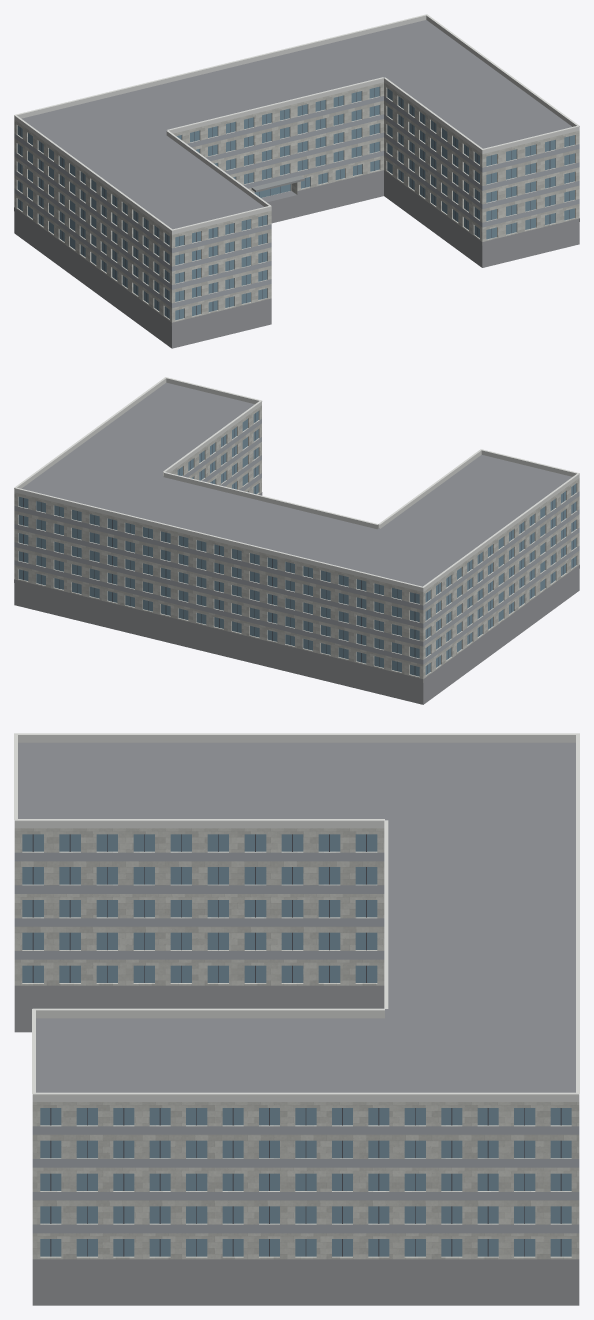
The picture shows the model from 3 angles, top to bottom: view 1: azimuth 30°, elevation 25°; view 2: azimuth 150°, elevation 25°; view 3: azimuth 270°, elevation 25°; orthographic projection. The views are drawn at different scales.
Parts seen in each view (by area): view 1: dorm3__roof, dorm3__wall, dorm3__glass, dorm3__base, dorm3__wall2, dorm3__parapet, dorm3__trim, dorm3__frame; view 2: dorm3__roof, dorm3__wall, dorm3__glass, dorm3__base, dorm3__wall2, dorm3__parapet, dorm3__trim, dorm3__frame; view 3: dorm3__roof, dorm3__wall, dorm3__glass, dorm3__base, dorm3__wall2, dorm3__parapet, dorm3__trim, dorm3__frame.
Boxes of the visible parts, bbox=[...] form: dorm3__roof: bbox=[22, 20, 571, 229]; dorm3__wall: bbox=[14, 82, 579, 325]; dorm3__glass: bbox=[17, 86, 574, 320]; dorm3__base: bbox=[14, 170, 579, 348]; dorm3__wall2: bbox=[14, 96, 579, 307]; dorm3__parapet: bbox=[14, 15, 579, 234]; dorm3__trim: bbox=[14, 14, 579, 230]; dorm3__frame: bbox=[20, 88, 569, 318]; dorm3__roof: bbox=[21, 382, 571, 586]; dorm3__wall: bbox=[14, 405, 579, 682]; dorm3__glass: bbox=[18, 411, 576, 676]; dorm3__base: bbox=[14, 492, 579, 704]; dorm3__wall2: bbox=[14, 419, 579, 664]; dorm3__parapet: bbox=[14, 378, 579, 591]; dorm3__trim: bbox=[14, 377, 579, 588]; dorm3__frame: bbox=[23, 413, 573, 675]; dorm3__roof: bbox=[18, 742, 575, 1092]; dorm3__wall: bbox=[14, 828, 579, 1259]; dorm3__glass: bbox=[22, 834, 571, 1256]; dorm3__base: bbox=[14, 985, 579, 1305]; dorm3__wall2: bbox=[14, 852, 579, 1233]; dorm3__parapet: bbox=[14, 735, 579, 1101]; dorm3__trim: bbox=[14, 733, 579, 1095]; dorm3__frame: bbox=[32, 834, 561, 1256].
Size of the model in its own units: 77.91 by 21.3 by 51.6.
Materials: 10 (1 with a texture image).
